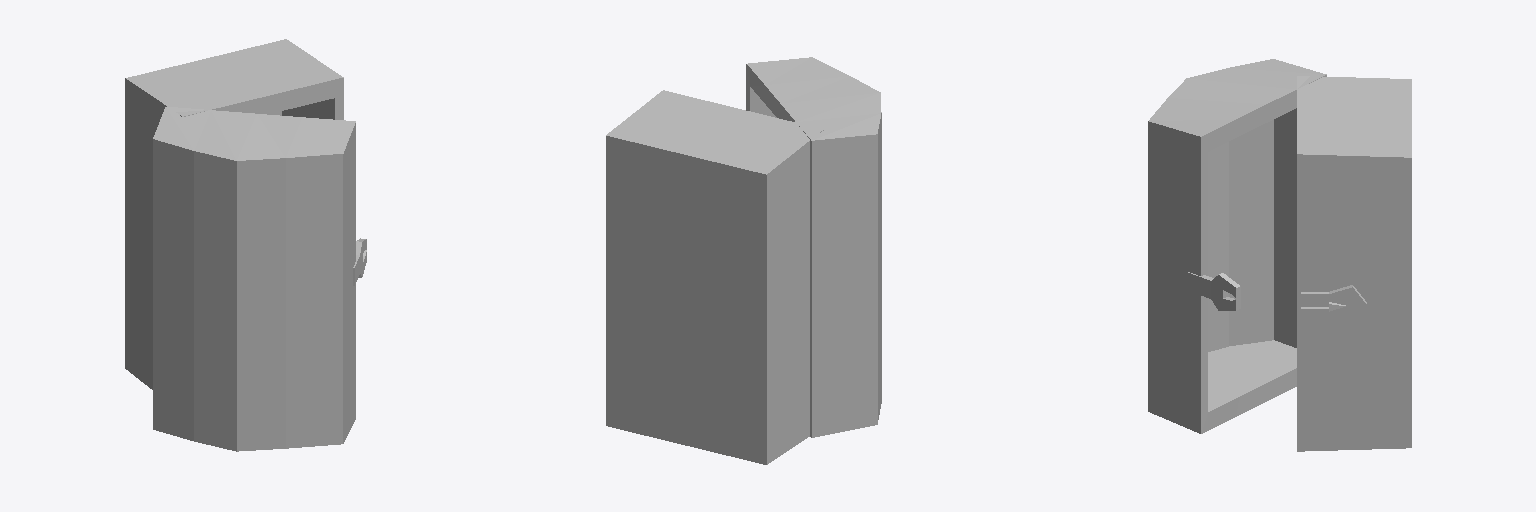
The model's file is chest.obj.
3 renders of one model, left to right at view 1: azimuth 30°, elevation 25°; view 2: azimuth 150°, elevation 25°; view 3: azimuth 270°, elevation 25°, orthographic.
Visible parts, largest first — view 1: chest_Cube.002; view 2: chest_Cube.002; view 3: chest_Cube.002.
Part boxes in pixels (bbox=[...]): chest_Cube.002: bbox=[125, 39, 366, 451]; chest_Cube.002: bbox=[606, 57, 881, 464]; chest_Cube.002: bbox=[1148, 59, 1411, 451].
Size of the model in its own units: 0.7486 by 1 by 0.8037.